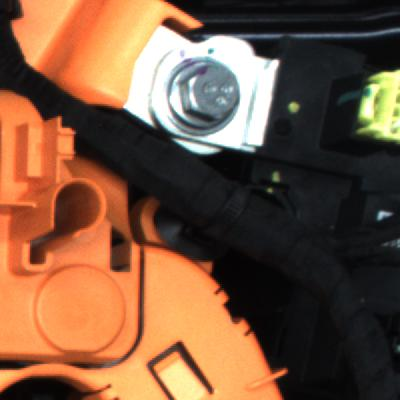nut_b: (150, 46, 261, 141)
